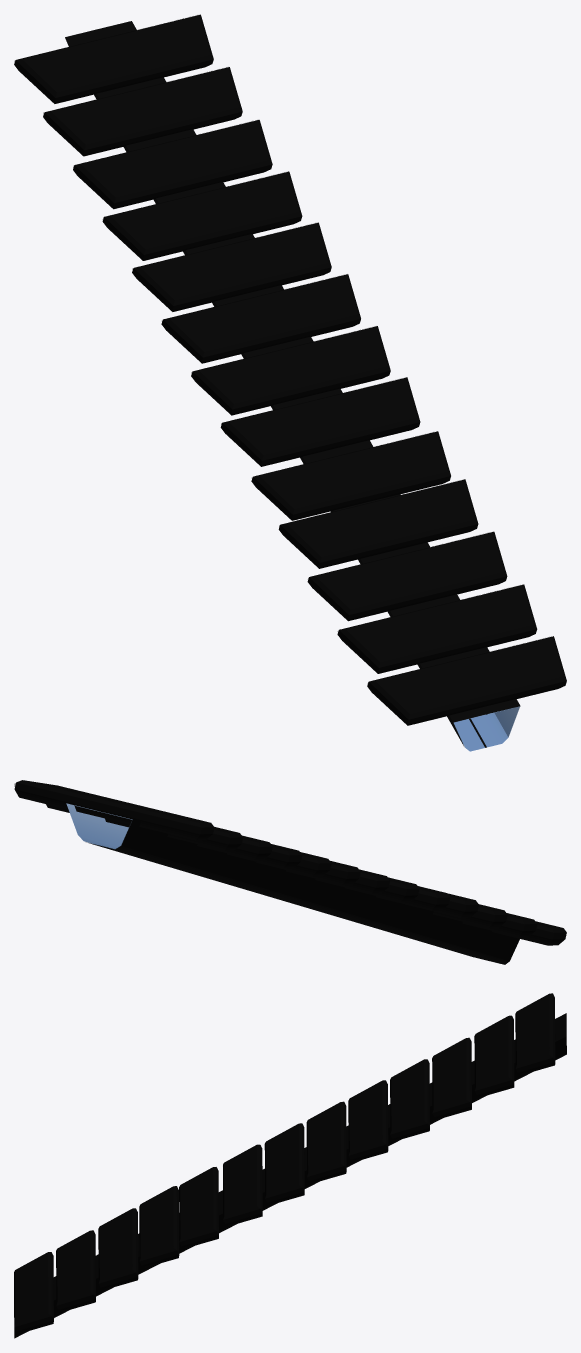
Rendered from Platform_Stairs_03.glb.
3 views of the same model, one above another, from view 1: azimuth 30°, elevation 25°; view 2: azimuth 150°, elevation 25°; view 3: azimuth 270°, elevation 25° (orthographic). The views are drawn at different scales.
Visible parts, largest first — view 1: Platform_Stairs_03; view 2: Platform_Stairs_03; view 3: Platform_Stairs_03.
Part boxes in pixels (<box>): Platform_Stairs_03: <box>14,14,566,751</box>; Platform_Stairs_03: <box>14,780,566,964</box>; Platform_Stairs_03: <box>14,993,566,1338</box>.
Size of the model in its own units: 2.35 by 5.21 by 8.45.
3 materials, 2 textured.
